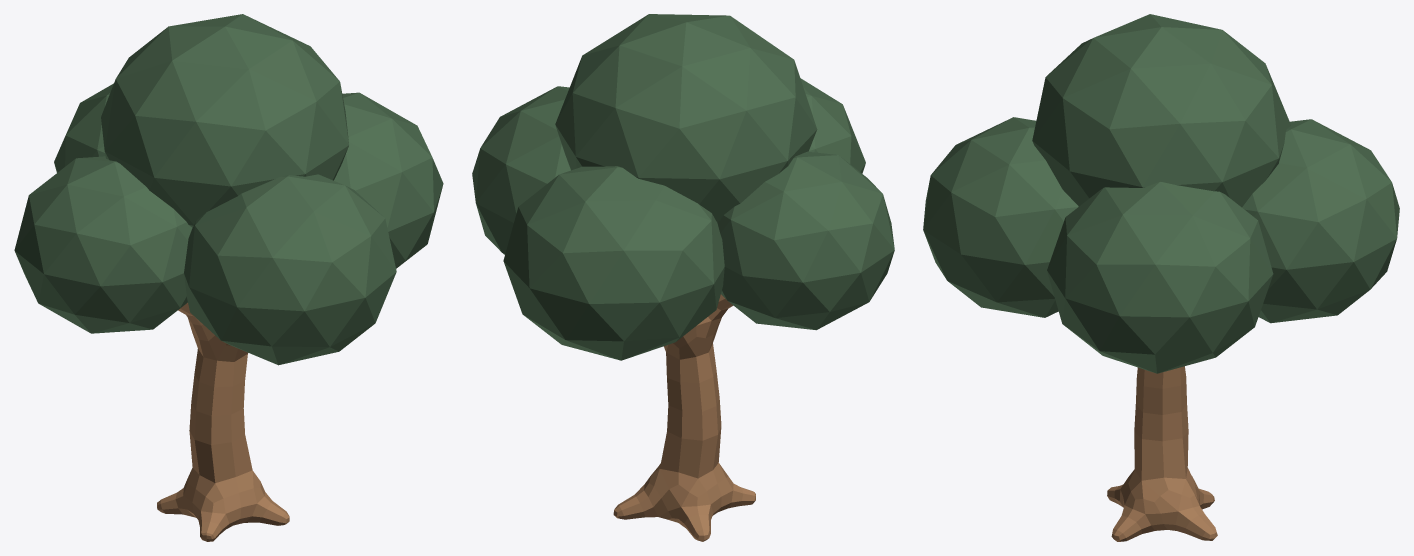
Rendered from Tree_Oak.fbx.
3 renders of one model, left to right at view 1: azimuth 30°, elevation 25°; view 2: azimuth 150°, elevation 25°; view 3: azimuth 270°, elevation 25°, orthographic.
Visible parts, largest first — view 1: Tree_Oak; view 2: Tree_Oak; view 3: Tree_Oak.
Boxes of the visible parts, bbox=[...] form: Tree_Oak: bbox=[14, 14, 443, 541]; Tree_Oak: bbox=[472, 14, 894, 541]; Tree_Oak: bbox=[923, 14, 1399, 541].
Bounding box in the file's own units: 5.09 × 6.07 × 5.28.
